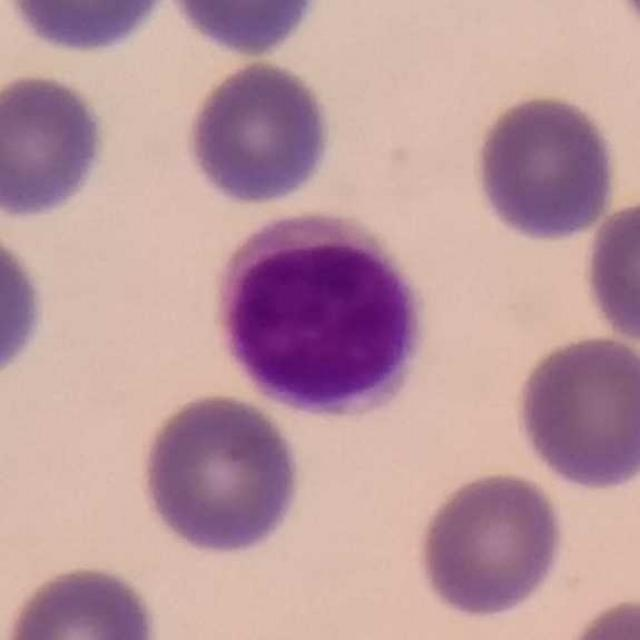Lymphocyte: (206, 207, 435, 425)
RBC: (137, 390, 305, 558), (413, 468, 569, 621), (470, 89, 621, 246), (182, 57, 336, 209), (511, 332, 640, 493), (0, 68, 111, 224), (2, 561, 164, 640), (159, 0, 334, 60), (2, 0, 176, 57), (579, 192, 640, 350), (0, 219, 51, 386), (558, 592, 640, 640)
